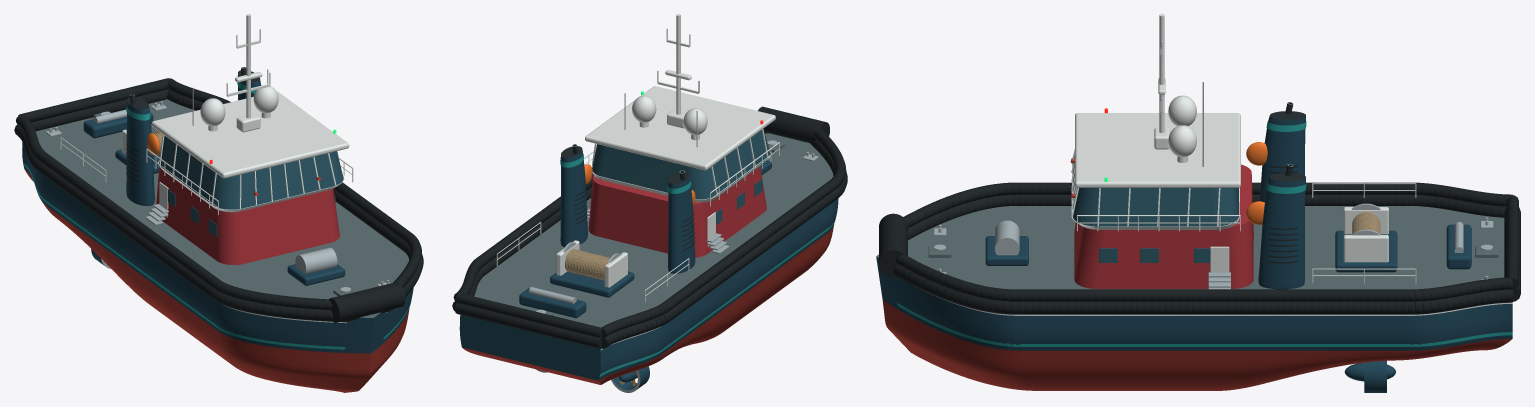
The model's file is harbour-tug.glb.
The picture shows the model from 3 angles, left to right: view 1: azimuth 30°, elevation 25°; view 2: azimuth 150°, elevation 25°; view 3: azimuth 270°, elevation 25°; orthographic projection. The views are drawn at different scales.
Visible parts, largest first — view 1: hull, rubber_fender_belts, wheelhouse, main_deck, deckhouse, twin_rounded_exhausts, navigation_equipment, foredeck_winch, hull_accents, towing_fairlead, bridge_walkaround, mooring_gear (+2 smaller); view 2: hull, main_deck, rubber_fender_belts, wheelhouse, deckhouse, twin_rounded_exhausts, aft_towing_winch, navigation_equipment, towing_fairlead, hull_accents, azimuth_pods, bridge_walkaround (+1 smaller); view 3: hull, rubber_fender_belts, main_deck, wheelhouse, deckhouse, twin_rounded_exhausts, aft_towing_winch, hull_accents, navigation_equipment, foredeck_winch, towing_fairlead, azimuth_pods (+4 smaller).
Part boxes in pixels (<box>): hull: <box>22,142,413,392</box>; rubber_fender_belts: <box>14,78,423,322</box>; wheelhouse: <box>151,91,349,212</box>; main_deck: <box>35,99,408,317</box>; deckhouse: <box>145,167,339,264</box>; twin_rounded_exhausts: <box>126,67,261,205</box>; navigation_equipment: <box>192,14,278,131</box>; foredeck_winch: <box>287,247,345,285</box>; hull_accents: <box>23,163,410,349</box>; towing_fairlead: <box>83,109,153,138</box>; bridge_walkaround: <box>146,148,353,214</box>; mooring_gear: <box>45,101,389,296</box>; hull: <box>459,198,838,384</box>; main_deck: <box>474,133,833,327</box>; rubber_fender_belts: <box>452,106,847,348</box>; wheelhouse: <box>585,86,775,202</box>; deckhouse: <box>587,166,766,257</box>; twin_rounded_exhausts: <box>560,144,695,273</box>; aft_towing_winch: <box>550,240,634,297</box>; navigation_equipment: <box>624,14,707,147</box>; towing_fairlead: <box>519,287,586,318</box>; hull_accents: <box>599,219,835,376</box>; azimuth_pods: <box>536,366,649,392</box>; bridge_walkaround: <box>584,142,779,206</box>; hull: <box>876,257,1512,390</box>; rubber_fender_belts: <box>879,182,1520,314</box>; main_deck: <box>876,206,1504,289</box>; wheelhouse: <box>1071,108,1240,229</box>; deckhouse: <box>1074,164,1253,289</box>; twin_rounded_exhausts: <box>1258,102,1306,289</box>; aft_towing_winch: <box>1335,203,1397,272</box>; hull_accents: <box>897,285,1512,346</box>; navigation_equipment: <box>1158,14,1203,166</box>; foredeck_winch: <box>985,220,1028,265</box>; towing_fairlead: <box>1446,222,1471,269</box>; azimuth_pods: <box>1344,360,1395,392</box>.
Bounding box in the file's own units: 13.06 × 18.82 × 31.24.
